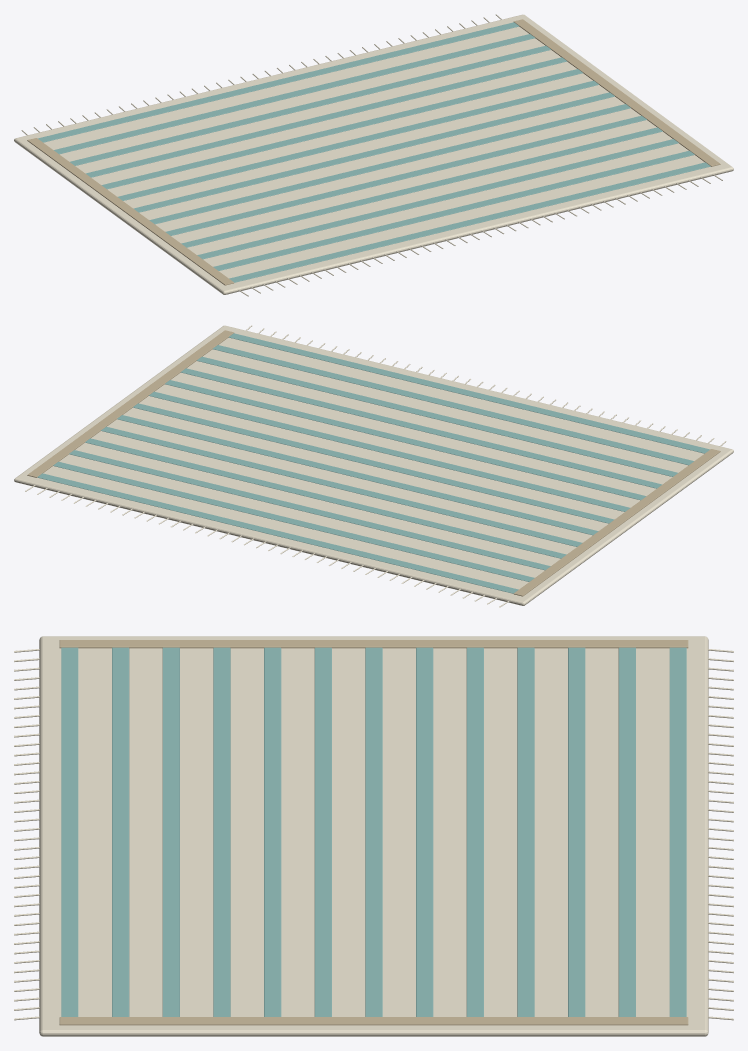
Rendered from rug-2.glb.
3 views of the same model, one above another, from view 1: azimuth 30°, elevation 25°; view 2: azimuth 150°, elevation 25°; view 3: azimuth 270°, elevation 25° (orthographic). The views are drawn at different scales.
Visible parts, largest first — view 1: Woven ground, Sea-glass stripe.006, Sea-glass stripe.009, Sea-glass stripe.012, Sea-glass stripe, Sea-glass stripe.001, Sea-glass stripe.002, Sea-glass stripe.003, Sea-glass stripe.005, Sea-glass stripe.008, Sea-glass stripe.007, Sea-glass stripe.010 (+4 smaller); view 2: Woven ground, Sea-glass stripe.006, Sea-glass stripe, Sea-glass stripe.003, Sea-glass stripe.012, Sea-glass stripe.009, Sea-glass stripe.010, Sea-glass stripe.011, Sea-glass stripe.004, Sea-glass stripe.007, Sea-glass stripe.001, Sea-glass stripe.002 (+4 smaller); view 3: Woven ground, Sea-glass stripe, Sea-glass stripe.001, Sea-glass stripe.002, Sea-glass stripe.004, Sea-glass stripe.005, Sea-glass stripe.007, Sea-glass stripe.008, Sea-glass stripe.010, Sea-glass stripe.011, Sea-glass stripe.012, Sea-glass stripe.003 (+4 smaller).
Part boxes in pixels (box(x1,y1,x2,y2)): Woven ground: box(14, 14, 733, 294); Sea-glass stripe.006: box(133, 92, 614, 212); Sea-glass stripe.009: box(85, 57, 567, 177); Sea-glass stripe.012: box(38, 22, 519, 142); Sea-glass stripe: box(229, 162, 710, 282); Sea-glass stripe.001: box(213, 150, 694, 270); Sea-glass stripe.002: box(197, 139, 678, 259); Sea-glass stripe.003: box(181, 127, 662, 247); Sea-glass stripe.005: box(149, 104, 630, 224); Sea-glass stripe.008: box(101, 69, 582, 189); Sea-glass stripe.007: box(118, 80, 598, 200); Sea-glass stripe.010: box(70, 45, 551, 165); Woven ground: box(14, 325, 733, 605); Sea-glass stripe.006: box(133, 403, 614, 523); Sea-glass stripe: box(228, 333, 709, 453); Sea-glass stripe.003: box(180, 368, 662, 488); Sea-glass stripe.012: box(37, 473, 518, 593); Sea-glass stripe.009: box(85, 438, 566, 558); Sea-glass stripe.010: box(69, 450, 550, 570); Sea-glass stripe.011: box(53, 461, 534, 581); Sea-glass stripe.004: box(165, 380, 646, 500); Sea-glass stripe.007: box(117, 415, 598, 535); Sea-glass stripe.001: box(213, 345, 693, 465); Sea-glass stripe.002: box(196, 356, 677, 476); Woven ground: box(39, 636, 708, 1036); Sea-glass stripe: box(61, 647, 78, 1016); Sea-glass stripe.001: box(112, 647, 129, 1016); Sea-glass stripe.002: box(162, 647, 179, 1016); Sea-glass stripe.004: box(264, 647, 281, 1016); Sea-glass stripe.005: box(314, 647, 331, 1016); Sea-glass stripe.007: box(416, 647, 433, 1016); Sea-glass stripe.008: box(466, 647, 483, 1016); Sea-glass stripe.010: box(568, 647, 585, 1016); Sea-glass stripe.011: box(618, 647, 635, 1016); Sea-glass stripe.012: box(669, 647, 686, 1016); Sea-glass stripe.003: box(213, 647, 230, 1016).
Bounding box in the file's own units: 1.85 × 0.017 × 1.42.
